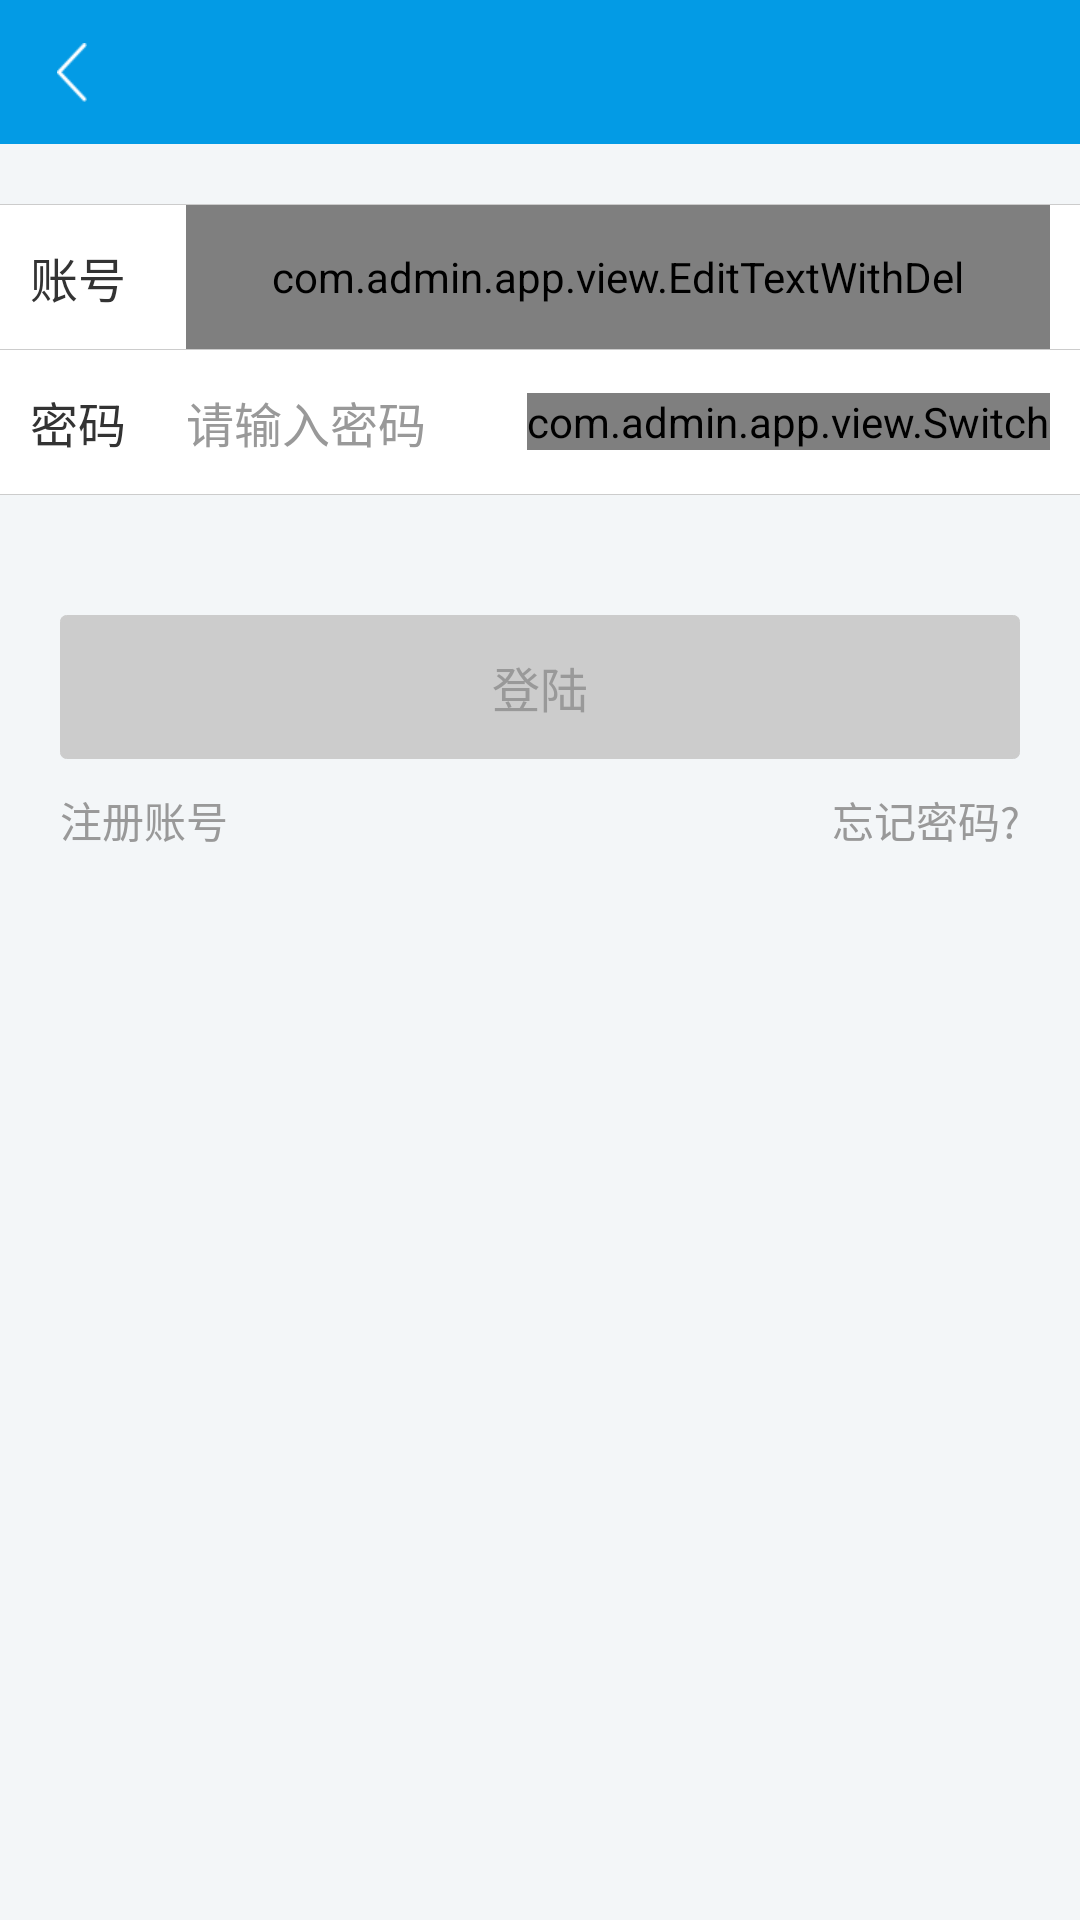

Where icons sit on this 1080*1920 app screen, as (x1, y1, x2, y2):
arrow left: (57, 43, 87, 102)
